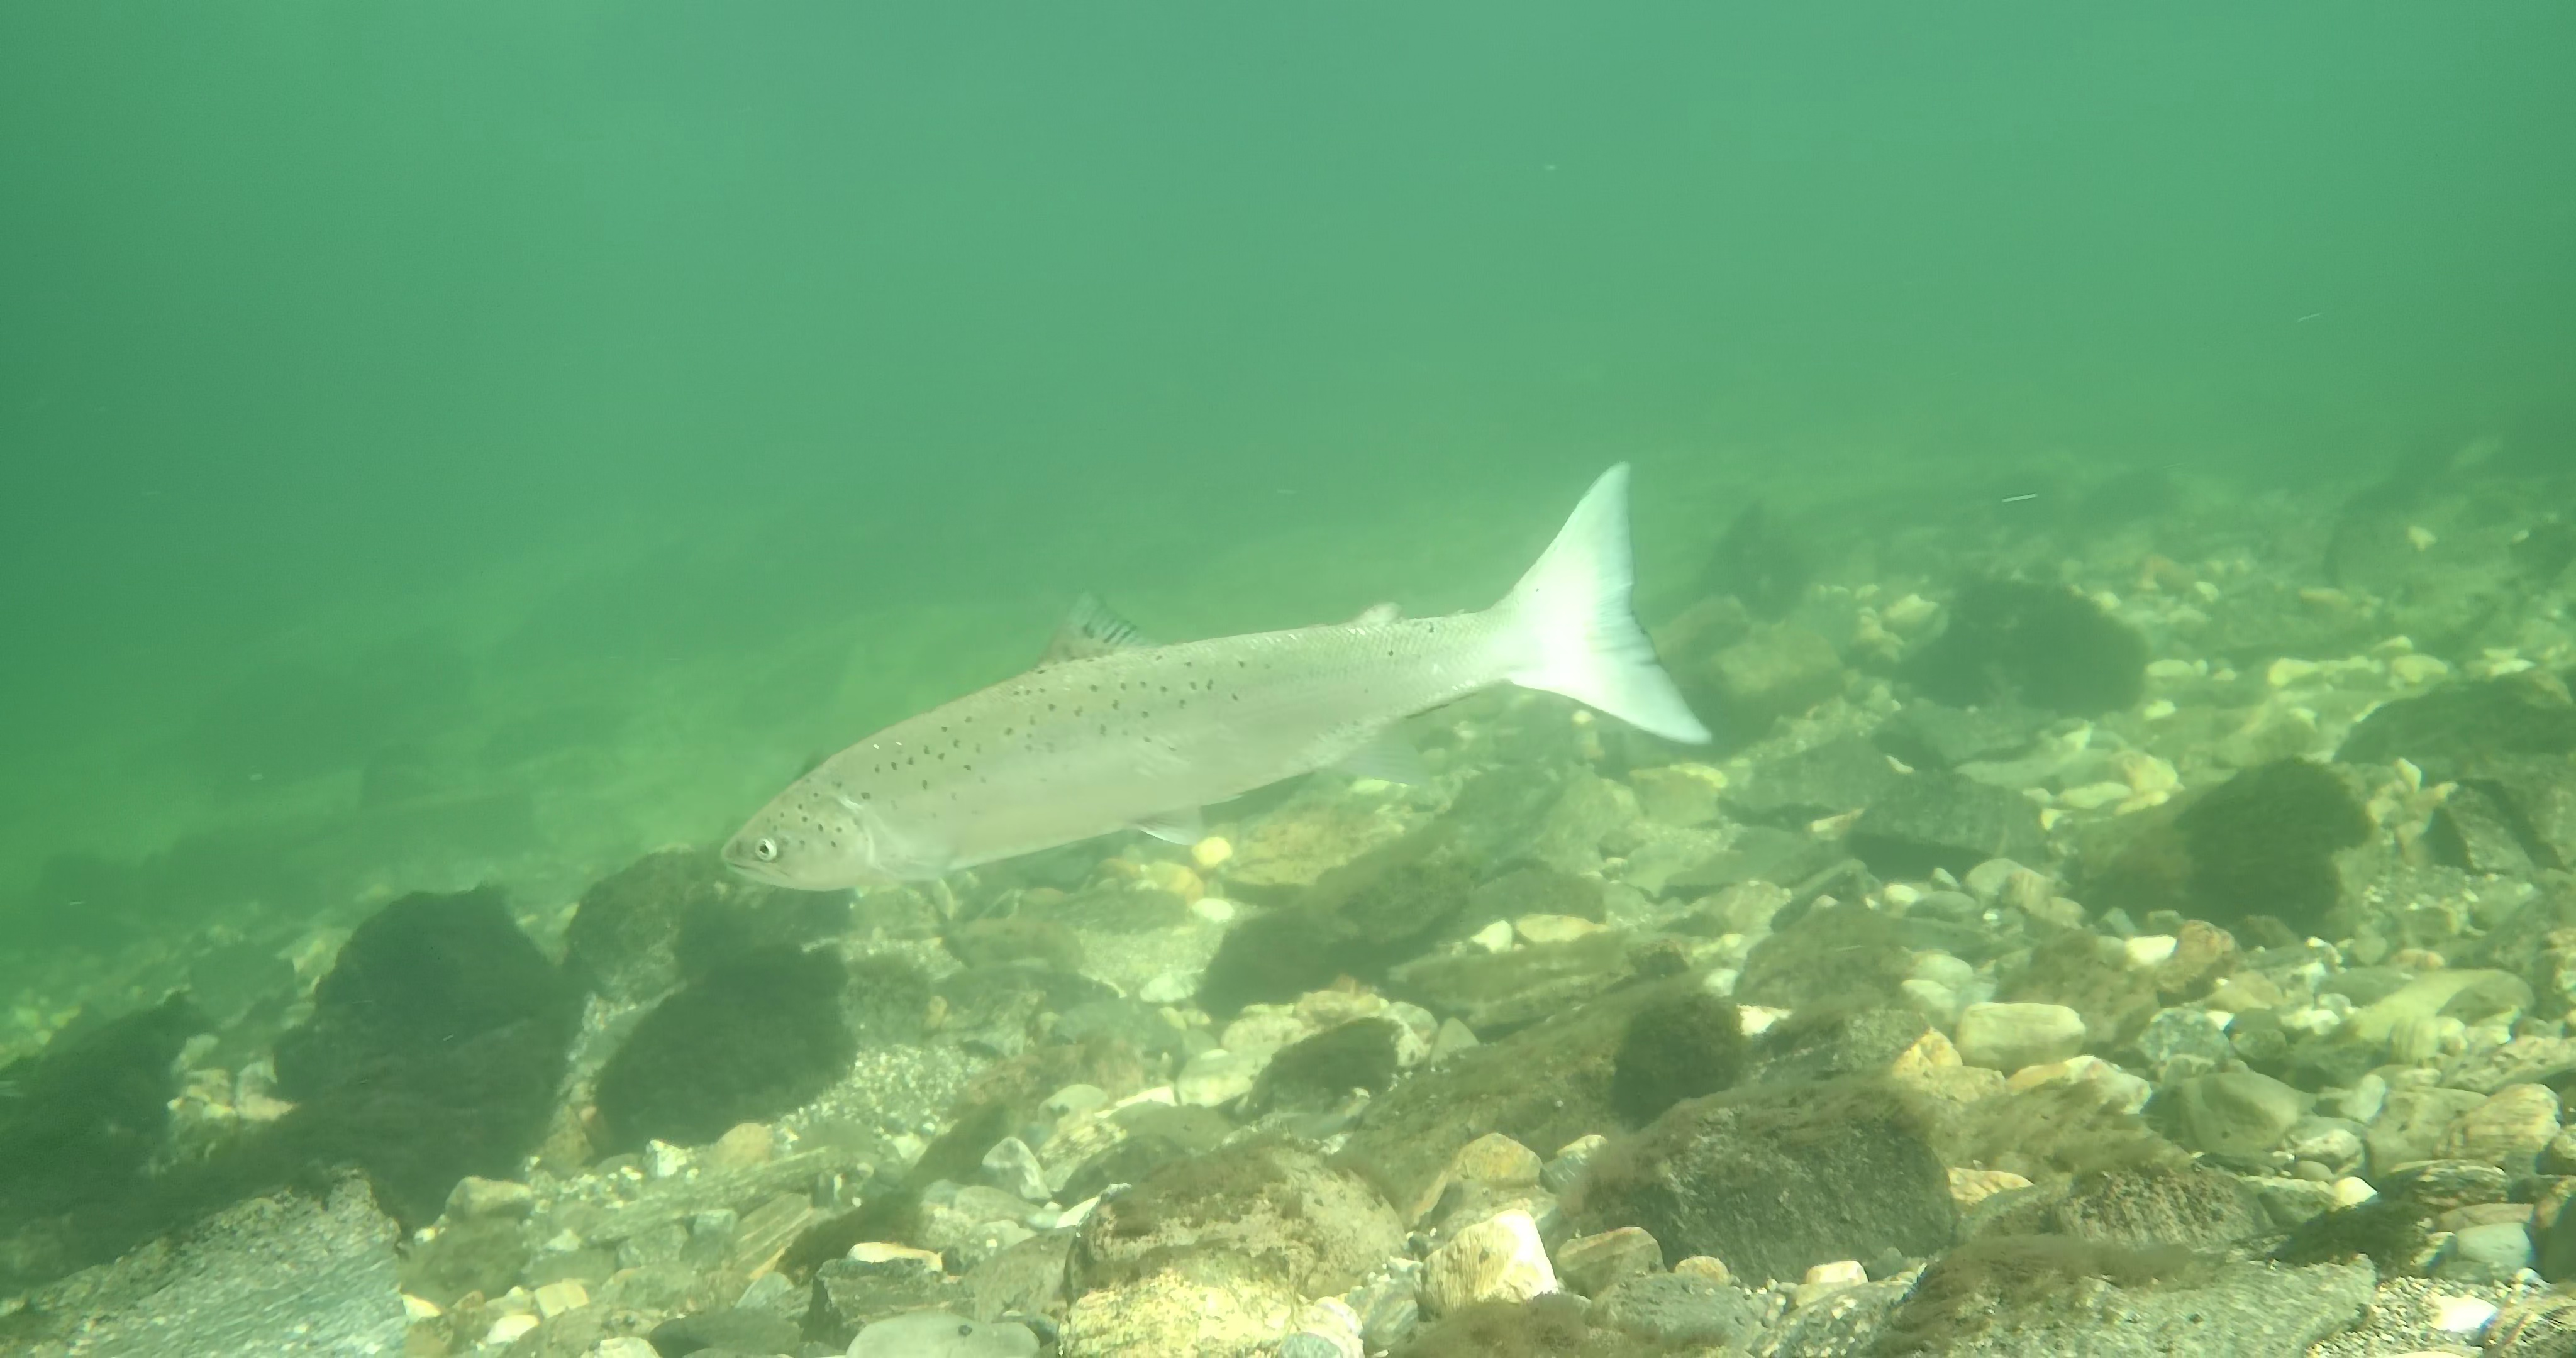salmon: (716, 458, 1716, 895)
